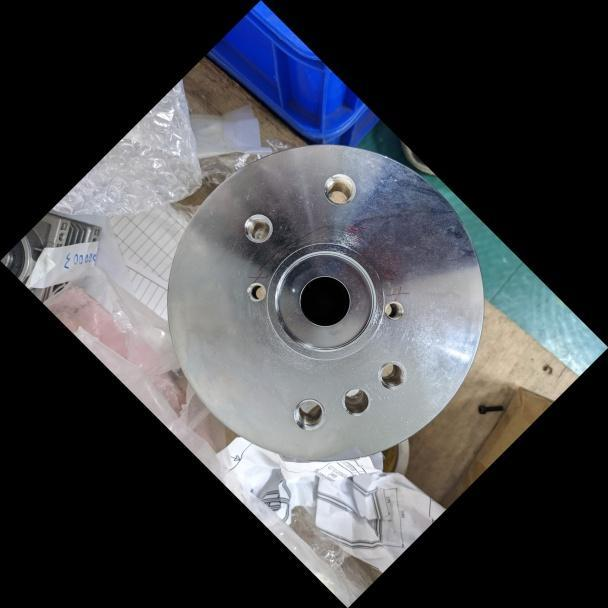hole: (311, 160, 370, 219), (229, 197, 286, 254), (365, 347, 419, 402), (282, 387, 335, 441), (331, 375, 382, 426), (235, 272, 276, 313), (375, 292, 411, 328)
